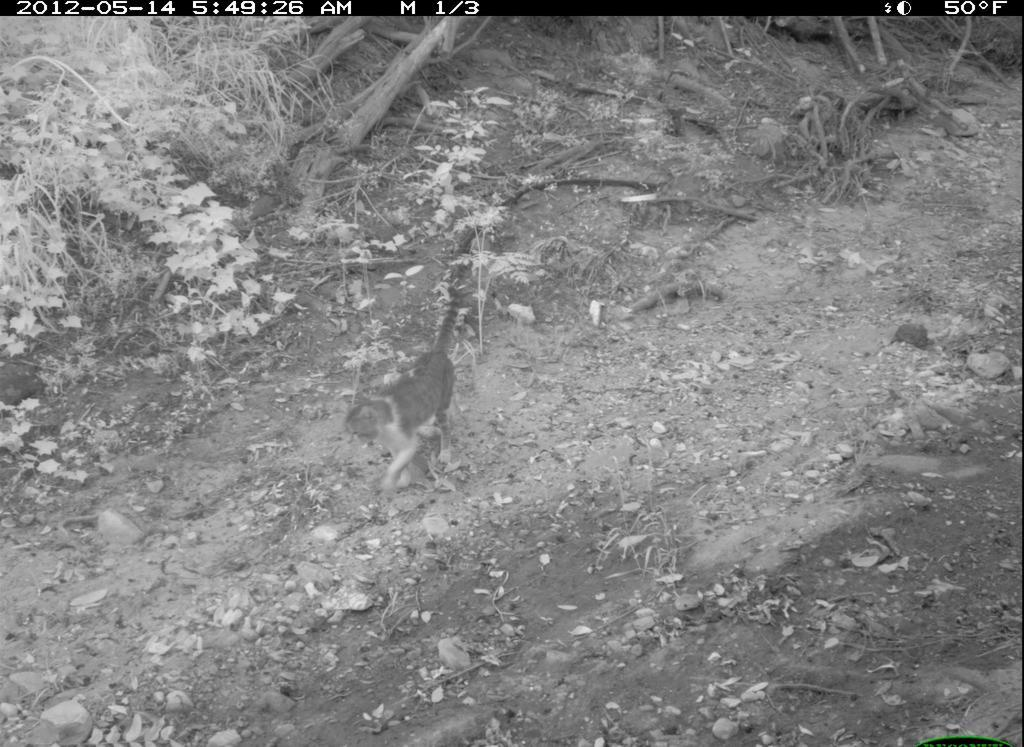cat: (341, 268, 481, 505)
